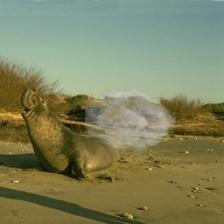fire: (85, 84, 175, 154)
